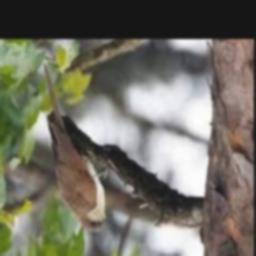Cuckoo: (44, 61, 112, 233)
